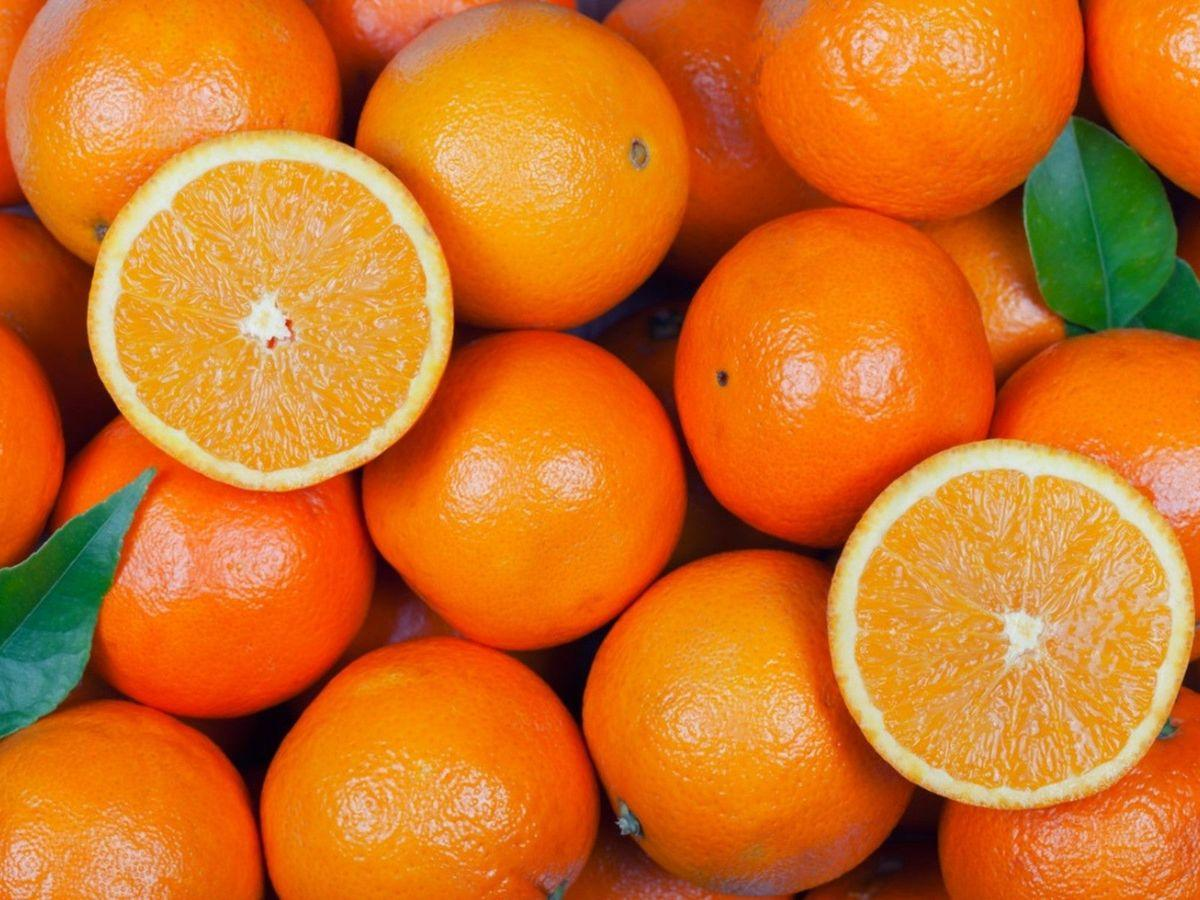non-mango: (175, 570, 808, 900), (812, 420, 1197, 847), (83, 120, 478, 499), (650, 160, 1003, 554)
